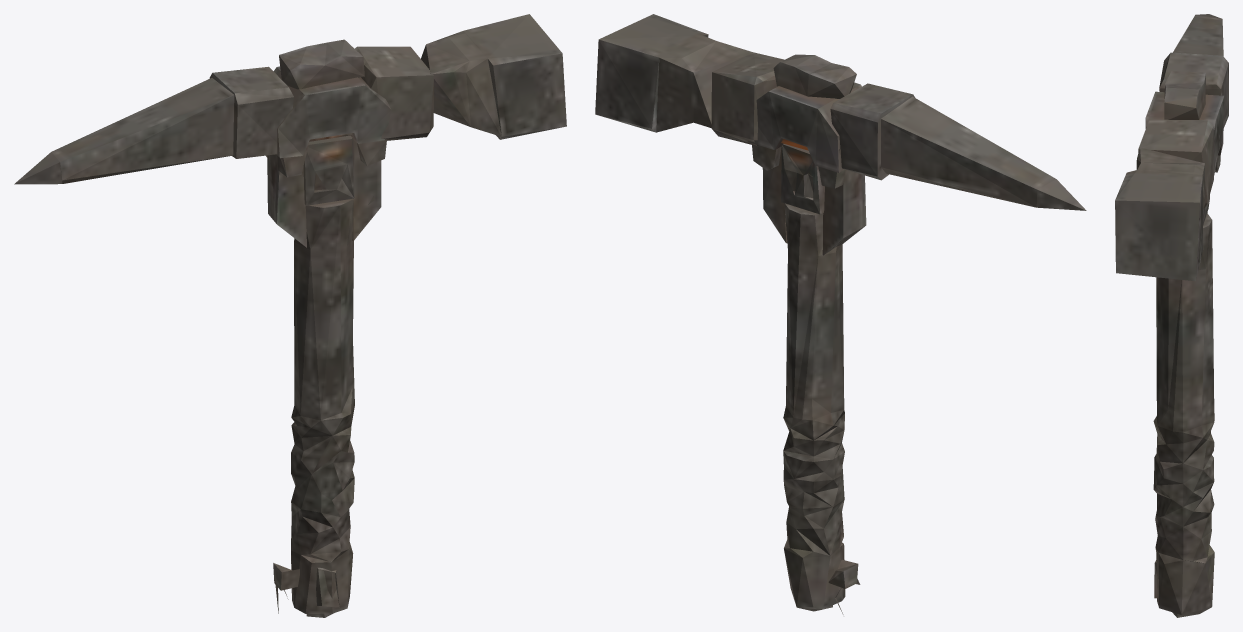
The model's file is prop.pickaxe.glb.
3 renders of one model, left to right at view 1: azimuth 30°, elevation 25°; view 2: azimuth 150°, elevation 25°; view 3: azimuth 270°, elevation 25°, orthographic. The views are drawn at different scales.
Visible parts, largest first — view 1: body; view 2: body; view 3: body.
Part boxes in pixels (bbox=[...]): body: bbox=[14, 14, 566, 617]; body: bbox=[595, 14, 1086, 614]; body: bbox=[1115, 14, 1228, 617].
Size of the model in its own units: 0.4337 by 0.4495 by 0.0878.
Materials: 1 (1 with a texture image).
